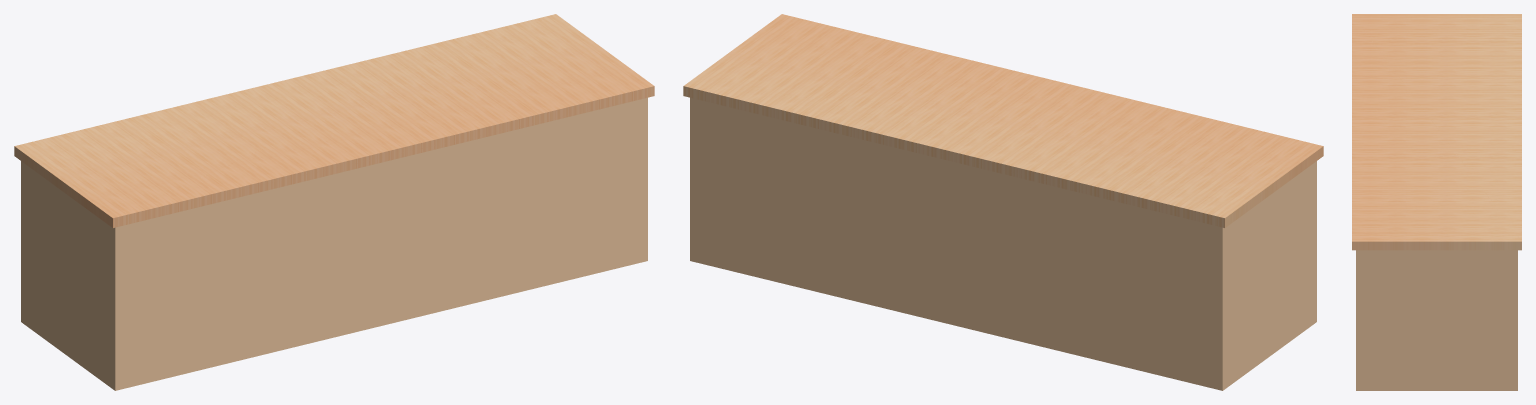
Rendered from new table.fbx.
3 renders of one model, left to right at view 1: azimuth 30°, elevation 25°; view 2: azimuth 150°, elevation 25°; view 3: azimuth 270°, elevation 25°, orthographic. The views are drawn at different scales.
Visible parts, largest first — view 1: Cube; view 2: Cube; view 3: Cube.
Part boxes in pixels (<box>): Cube: <box>14,14,654,390</box>; Cube: <box>683,14,1323,390</box>; Cube: <box>1352,14,1521,390</box>.
Bounding box in the file's own units: 635 × 196 × 200.
